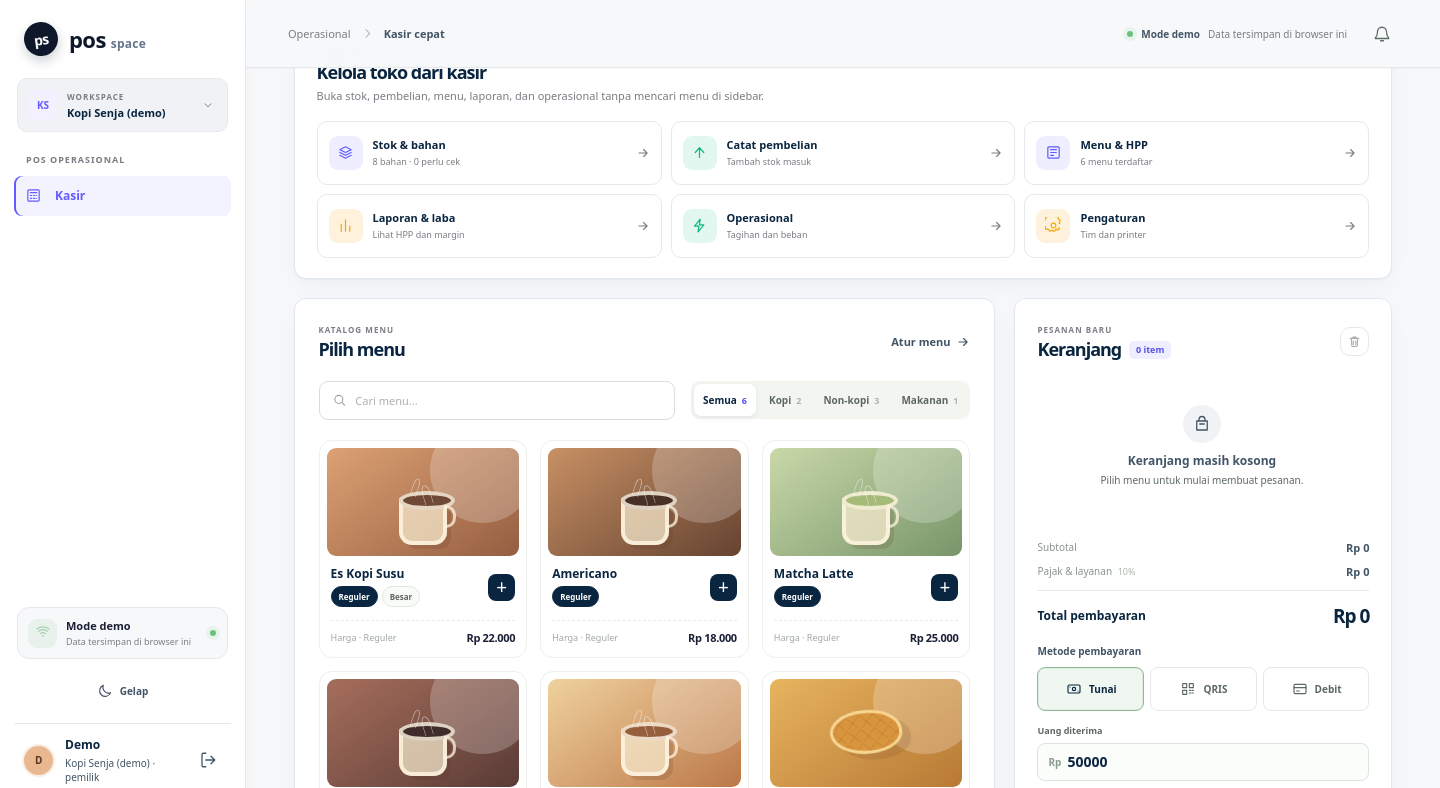
Test: Kasir cepat (alur POS via /demo) › cari menu dan filter kategori
(page scrolled)
Type "matcha" into the search field with placeholder "Cari menu..." at (509, 401), box [355,393,662,408]
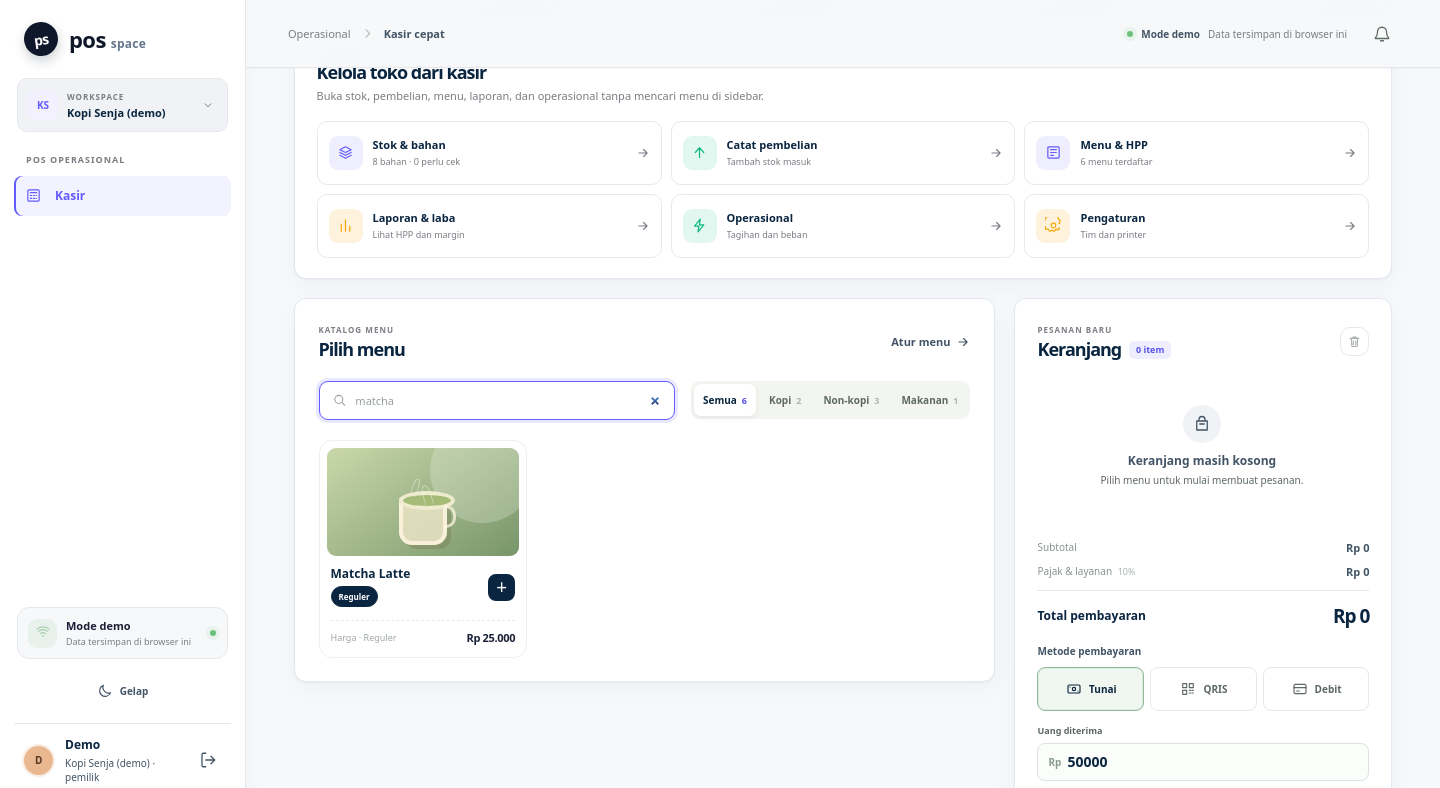
expect the text "Matcha Latte" is shown: met, box [331,565,411,582]
Clear the search field with placeholder "Cari menu..." at (509, 401), box [355,393,662,408]
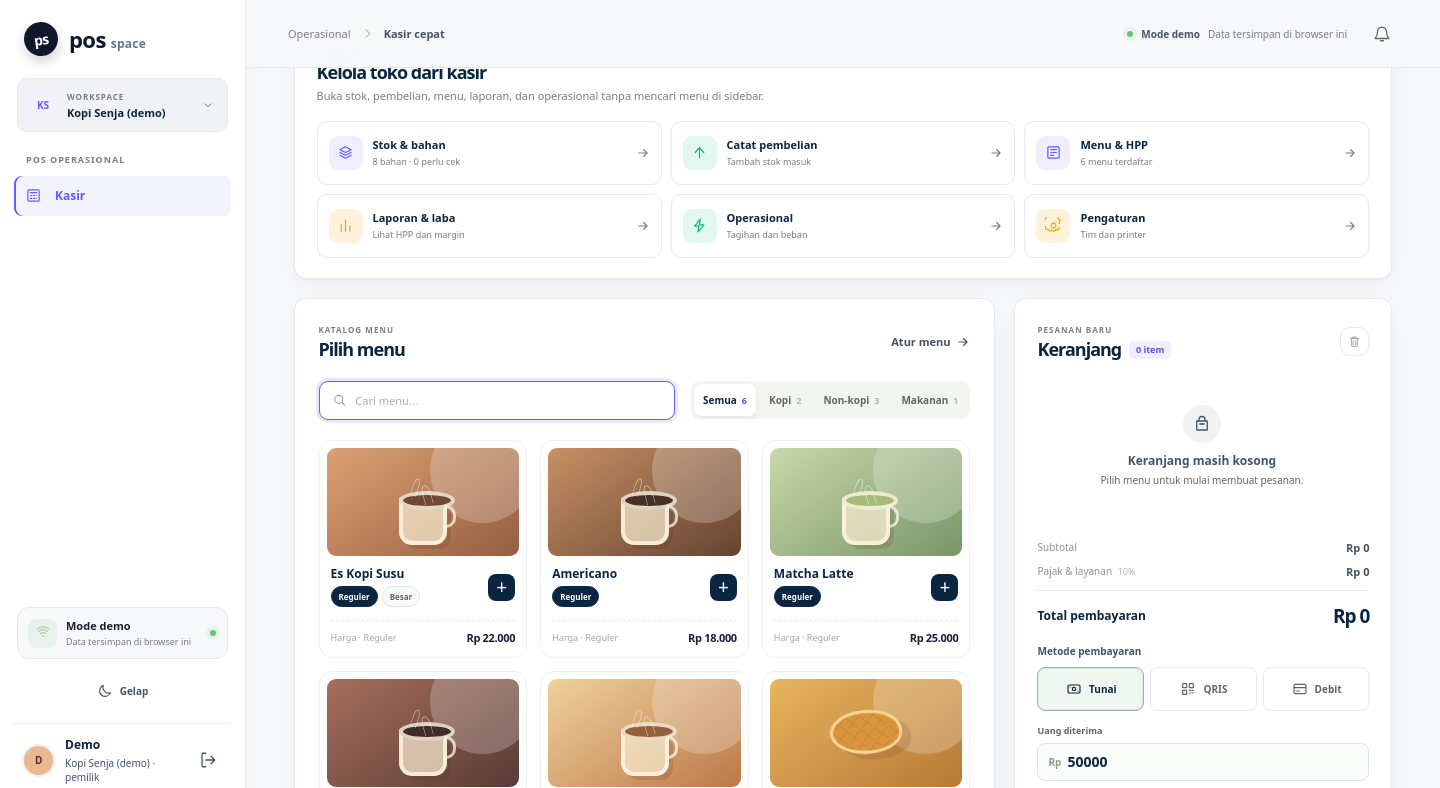
Click the tab "Kopi 2" at (785, 400), box [760,384,810,416]
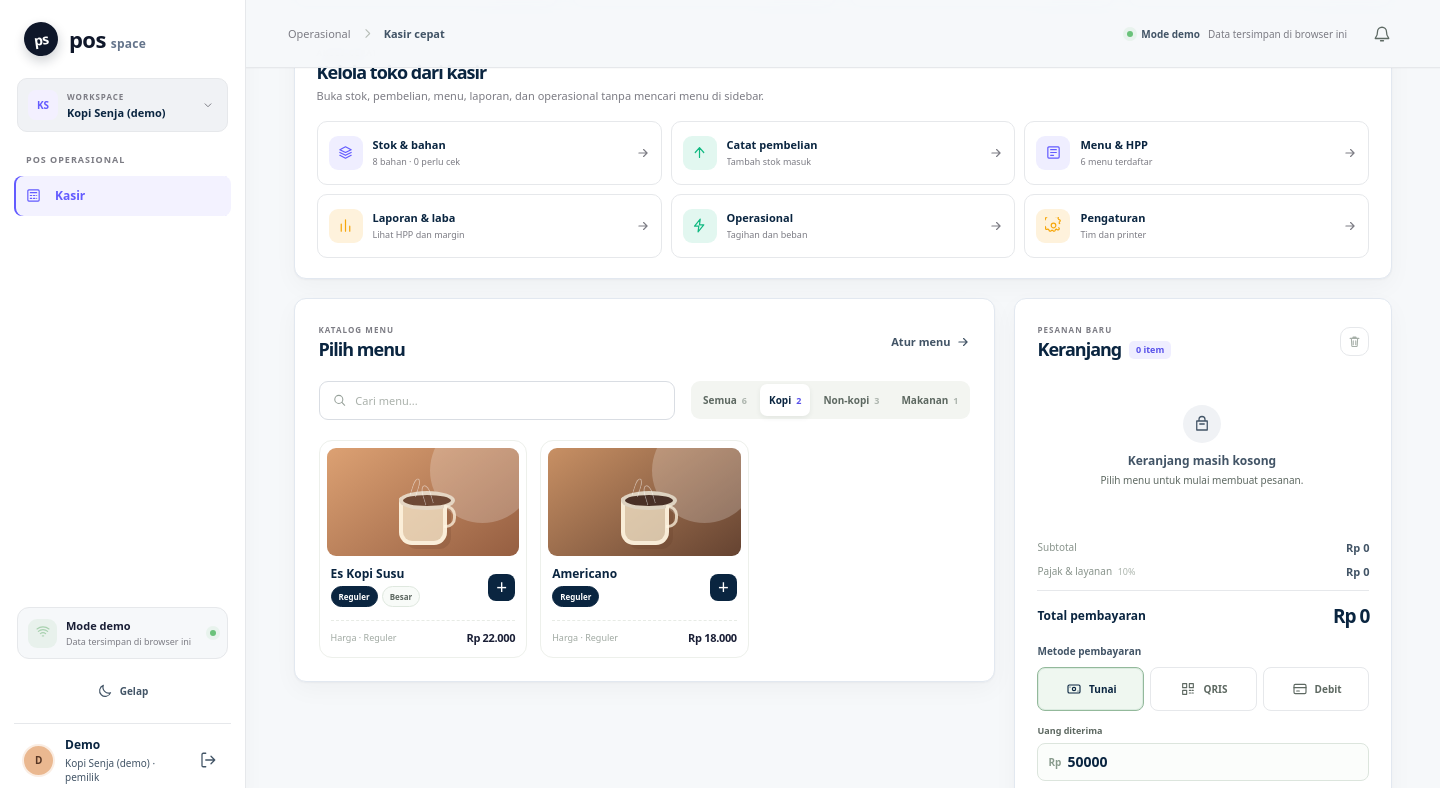
expect the text "Americano" is shown: met, box [552,565,617,582]
expect the heading "Matcha Latte" is gone: met
Click the tab "Makanan 1" at (930, 400), box [892,384,967,416]
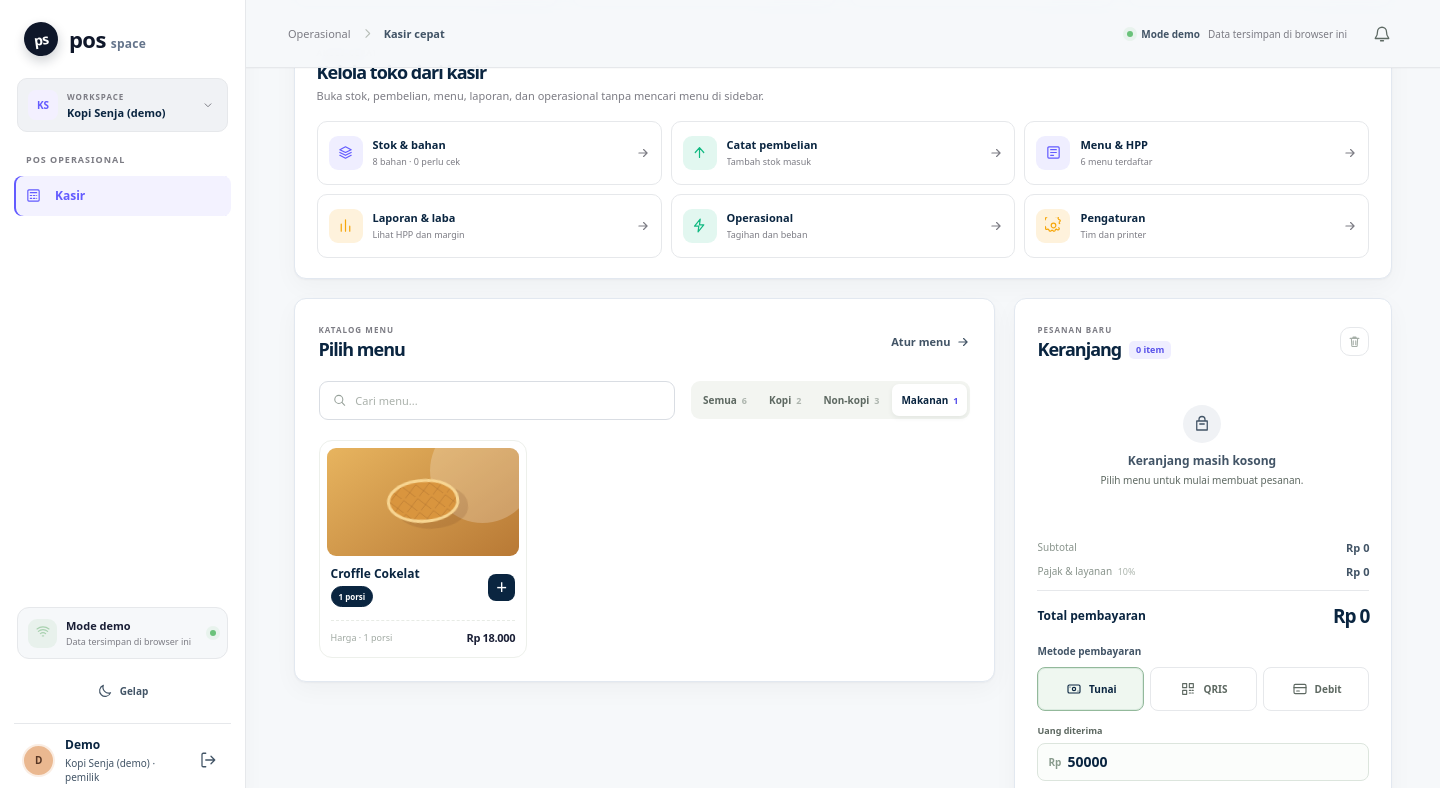
expect the text "Croffle Cokelat" is shown: met, box [331,565,420,582]
Type "tidak ada" into the search field with placeholder "Cari menu..." at (509, 401), box [355,393,662,408]
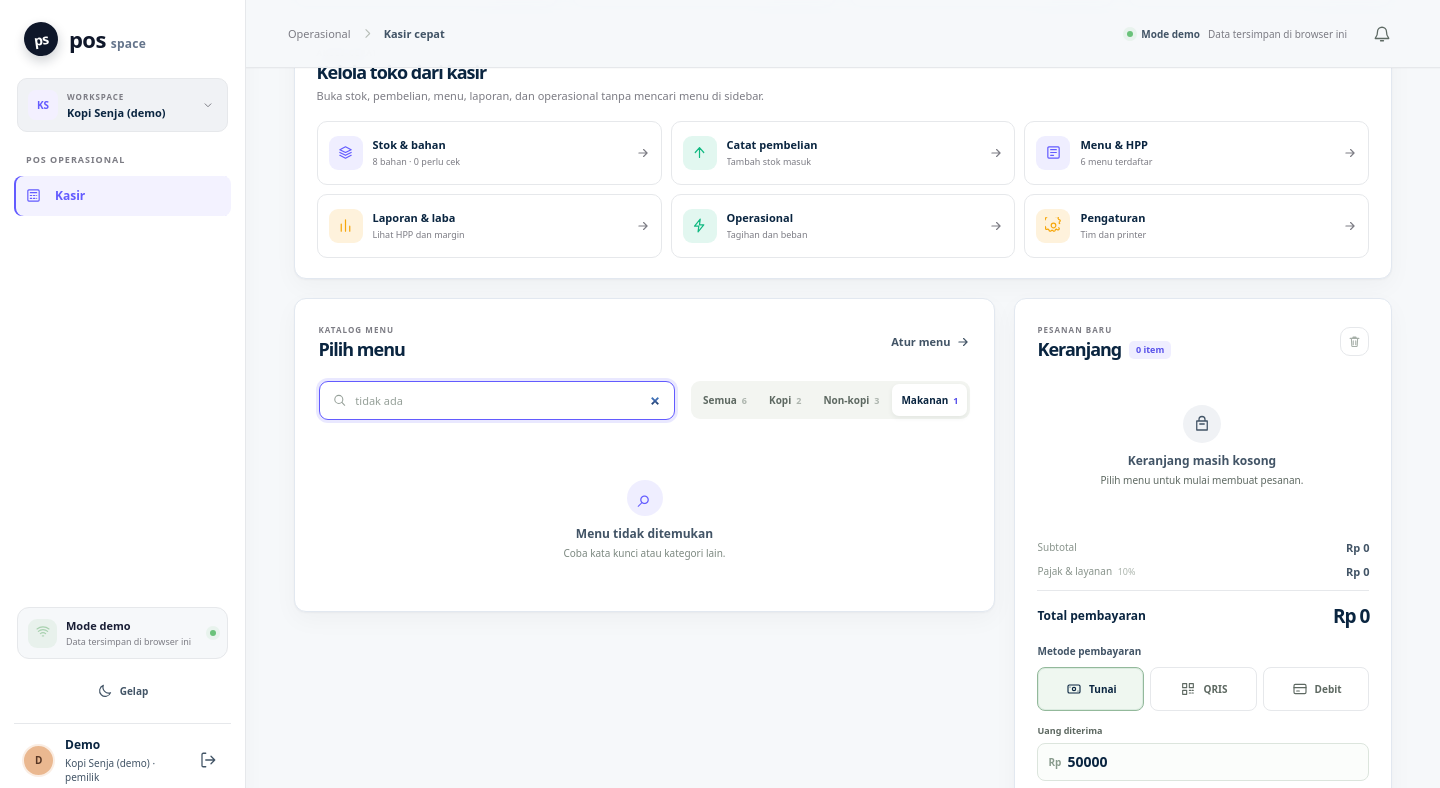
expect the text "Menu tidak ditemukan" is shown: met, box [576,525,713,542]
